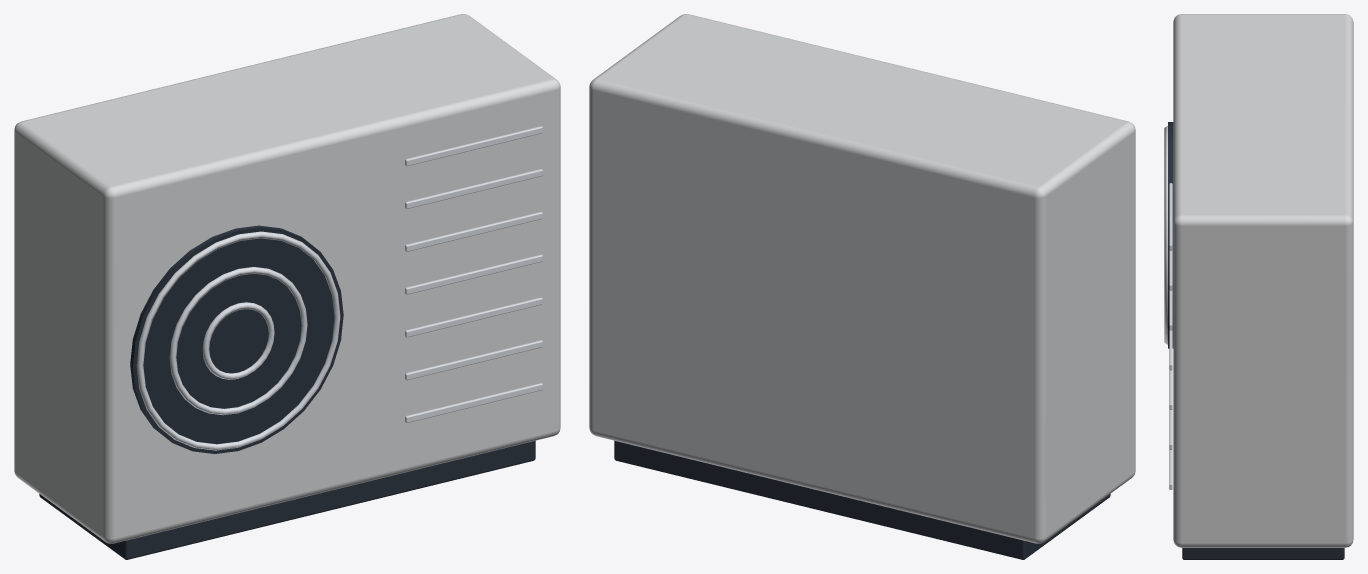
Rendered from outdoor-m.glb.
3 views of the same model, side by side, from view 1: azimuth 30°, elevation 25°; view 2: azimuth 150°, elevation 25°; view 3: azimuth 270°, elevation 25° (orthographic). The views are drawn at different scales.
Bounding box in the file's own units: 0.87 × 0.69 × 0.3357.
